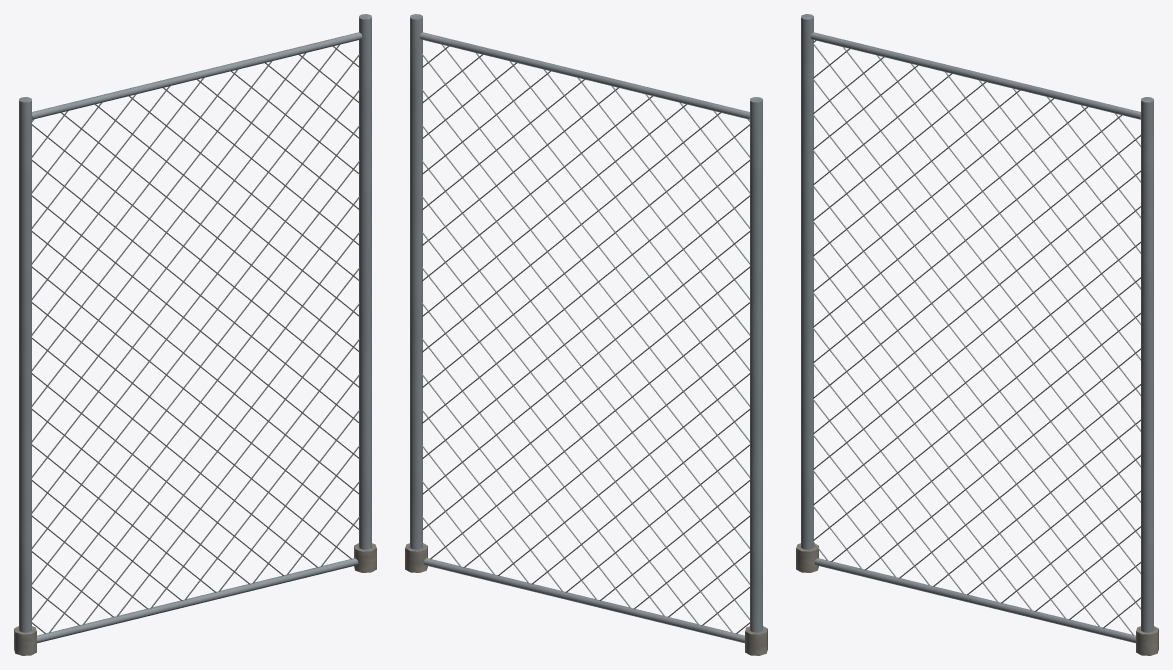
Rendered from fence_chainlink.fbx.
The picture shows the model from 3 angles, left to right: view 1: azimuth 30°, elevation 25°; view 2: azimuth 150°, elevation 25°; view 3: azimuth 330°, elevation 25°; orthographic projection.
Parts seen in each view (by area): view 1: fence_chainlink; view 2: fence_chainlink; view 3: fence_chainlink.
Boxes of the visible parts, left/top/right/bottom form: fence_chainlink: left=14, top=14, right=376, bottom=655; fence_chainlink: left=405, top=14, right=767, bottom=655; fence_chainlink: left=796, top=14, right=1158, bottom=655.
Size of the model in its own units: 2.12 by 3.1 by 0.12.
1 material, 1 textured.
